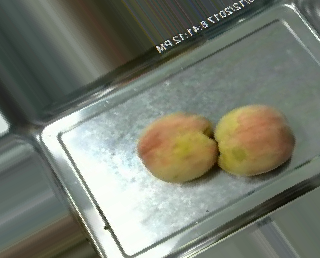Peach: (213, 103, 294, 176), (138, 112, 218, 183)
